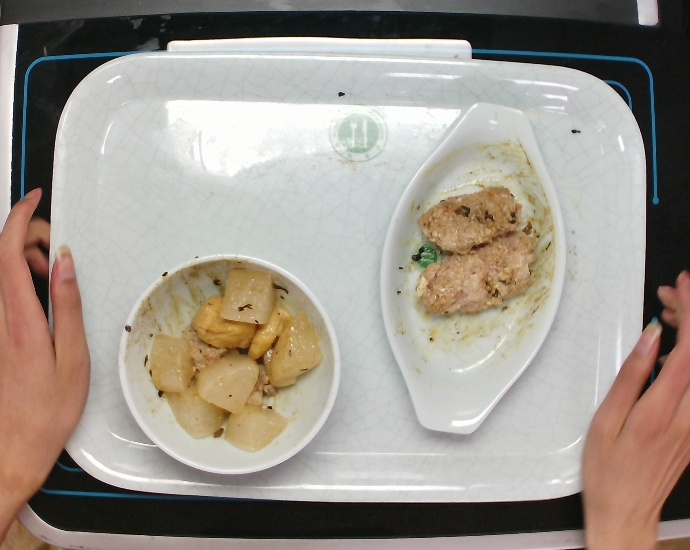JYsf-Fan_Wan: (113, 250, 347, 479)
JYsf-Yu_Pan: (374, 98, 571, 441)
